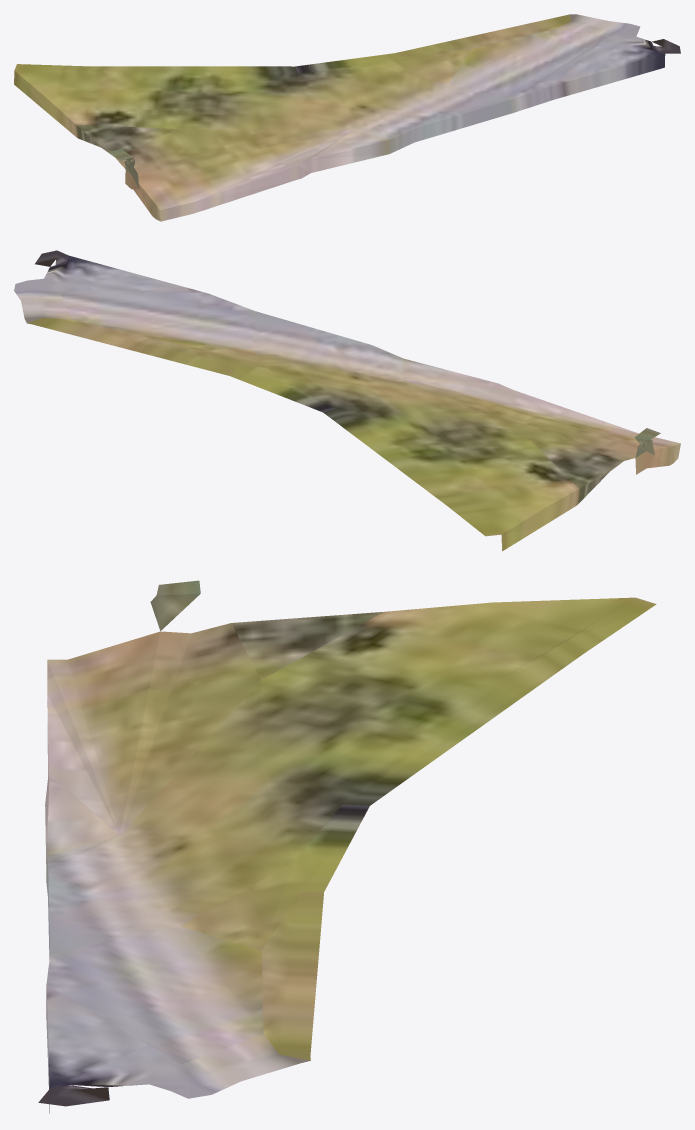
3 views of the same model, one above another, from view 1: azimuth 30°, elevation 25°; view 2: azimuth 150°, elevation 25°; view 3: azimuth 270°, elevation 25° (orthographic). The views are drawn at different scales.
Visible parts, largest first — view 1: Mesh_0.063; view 2: Mesh_0.063; view 3: Mesh_0.063.
Part boxes in pixels (x1,y1,x2,y2): Mesh_0.063: (14,14,680,221); Mesh_0.063: (14,250,680,551); Mesh_0.063: (38,580,656,1113).
Bounding box in the file's own units: 47.79 × 3.99 × 23.85.
Materials: 1 (1 with a texture image).
